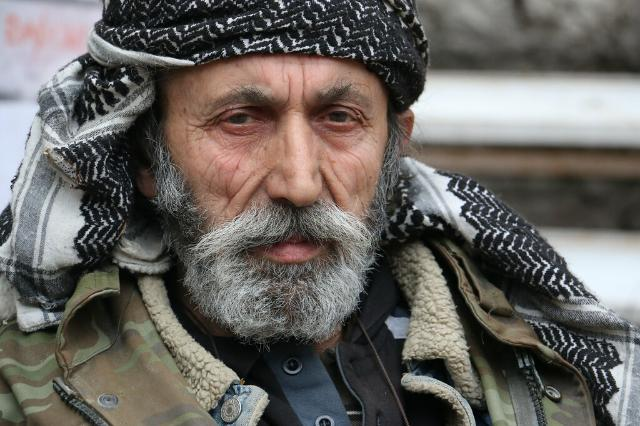crows_feet: (191, 112, 217, 138), (356, 113, 372, 138)
frown_line: (280, 76, 296, 108), (296, 75, 310, 111)
gummy_smile: (236, 173, 268, 211), (318, 169, 340, 205)
masseter: (212, 178, 238, 212)
